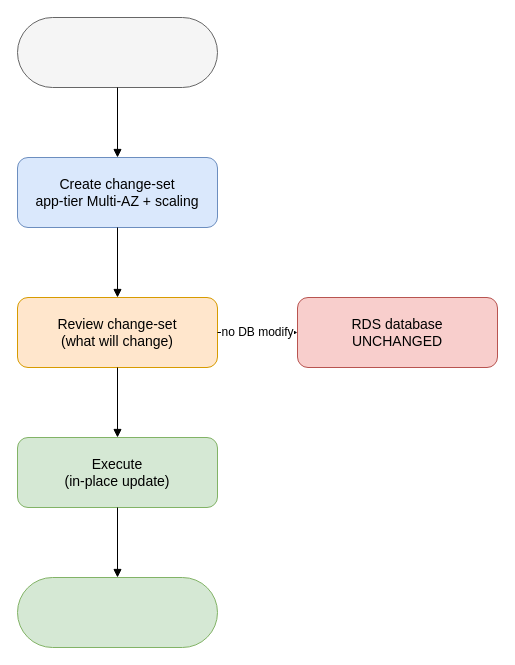
The diagram is 515 pixels wide and 665 high, and some of its shapes have lost their labels. Each missing label, with the centre of its shape:
"Baseline stack (single-AZ)" goes at point 117,52.
"Improved stack (HA app tier)" goes at point 117,612.
